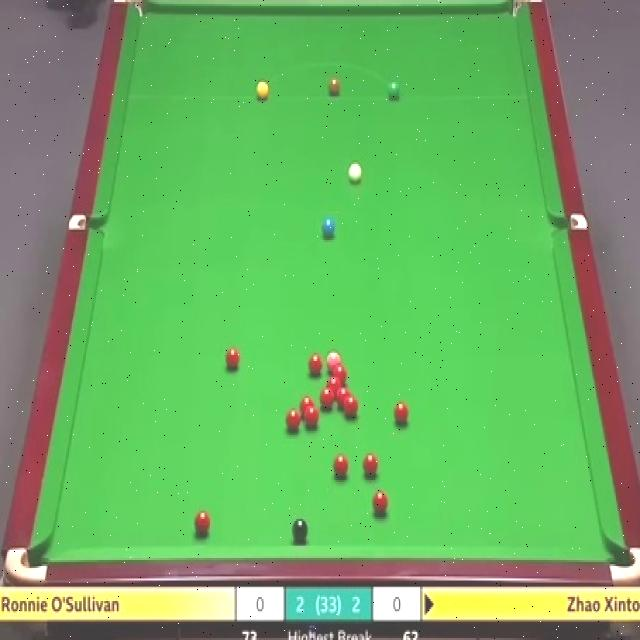black-ball: (290, 515, 308, 540)
blue-ball: (321, 218, 336, 236)
brown-ball: (329, 77, 340, 96)
green-ball: (386, 79, 402, 101)
pink-ball: (322, 353, 340, 367)
red-ball: (194, 512, 210, 540), (393, 398, 409, 425), (223, 346, 240, 371), (371, 489, 386, 515), (319, 387, 335, 410), (305, 403, 320, 427), (342, 394, 358, 416), (335, 456, 349, 481), (286, 411, 302, 431), (362, 452, 376, 474), (309, 353, 322, 375), (325, 375, 340, 394), (336, 384, 350, 404), (332, 365, 346, 383)
white-ball: (347, 165, 364, 182)
yellow-ball: (256, 80, 269, 101)
